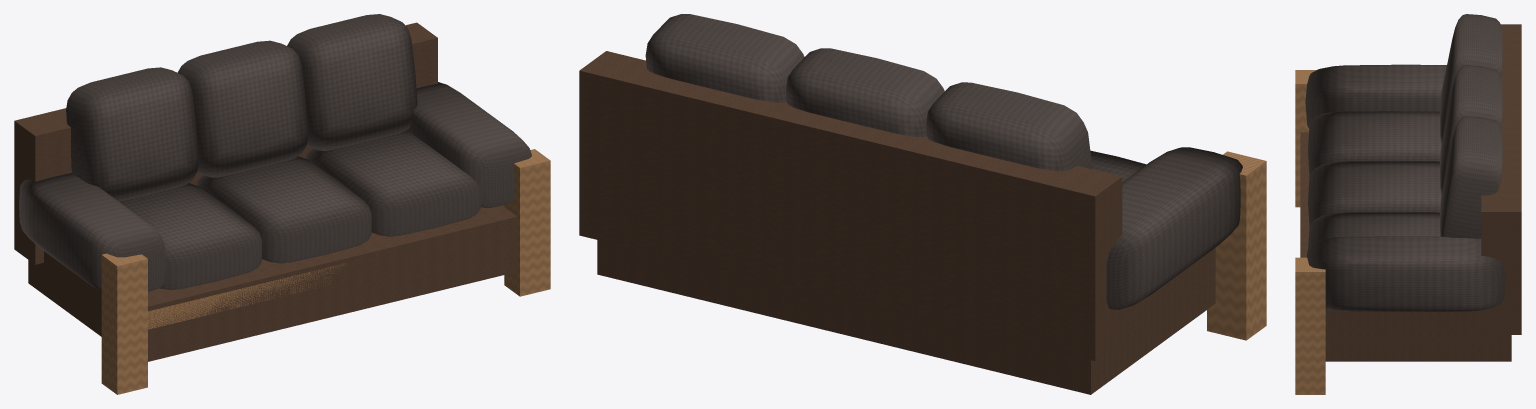
3 renders of one model, left to right at view 1: azimuth 30°, elevation 25°; view 2: azimuth 150°, elevation 25°; view 3: azimuth 270°, elevation 25°, orthographic. The views are drawn at different scales.
Parts seen in each view (by area): view 1: 4 base_frame, 11 left_back_cushion, 12 center_back_cushion, 13 right_back_cushion, 9 center_seat_cushion, 10 right_seat_cushion, 6 left_armrest, 8 left_seat_cushion, 7 right_armrest, 1 left_front_post, 5 back_frame, 2 right_front_post (+1 smaller); view 2: 5 back_frame, 4 base_frame, 6 left_armrest, 11 left_back_cushion, 12 center_back_cushion, 13 right_back_cushion, 1 left_front_post, 8 left_seat_cushion; view 3: 7 right_armrest, 4 base_frame, 5 back_frame, 9 center_seat_cushion, 8 left_seat_cushion, 6 left_armrest, 13 right_back_cushion, 2 right_front_post, 12 center_back_cushion, 11 left_back_cushion, 10 right_seat_cushion, 1 left_front_post.
Part boxes in pixels (box(x1,y1,x2,y2)): 4 base_frame: box(28, 205, 517, 361); 11 left_back_cushion: box(66, 67, 198, 201); 12 center_back_cushion: box(177, 40, 308, 177); 13 right_back_cushion: box(287, 14, 417, 150); 9 center_seat_cushion: box(196, 156, 371, 263); 10 right_seat_cushion: box(306, 130, 480, 236); 6 left_armrest: box(19, 173, 165, 291); 8 left_seat_cushion: box(120, 183, 261, 290); 7 right_armrest: box(406, 82, 531, 207); 1 left_front_post: box(101, 253, 147, 394); 5 back_frame: box(14, 22, 437, 264); 2 right_front_post: box(504, 149, 550, 296); 5 back_frame: box(579, 51, 1122, 361); 4 base_frame: box(597, 240, 1215, 394); 6 left_armrest: box(1106, 147, 1242, 309); 11 left_back_cushion: box(926, 82, 1092, 171); 12 center_back_cushion: box(786, 48, 944, 136); 13 right_back_cushion: box(645, 14, 804, 102); 1 left_front_post: box(1207, 151, 1266, 340); 8 left_seat_cushion: box(1090, 150, 1146, 181); 7 right_armrest: box(1306, 236, 1504, 312); 4 base_frame: box(1300, 132, 1511, 361); 5 back_frame: box(1481, 24, 1521, 334); 9 center_seat_cushion: box(1308, 161, 1441, 226); 8 left_seat_cushion: box(1308, 111, 1441, 175); 6 left_armrest: box(1305, 64, 1446, 128); 13 right_back_cushion: box(1440, 116, 1502, 238); 2 right_front_post: box(1295, 257, 1325, 394); 12 center_back_cushion: box(1440, 65, 1502, 194); 11 left_back_cushion: box(1440, 14, 1502, 143); 10 right_seat_cushion: box(1308, 212, 1440, 249); 1 left_front_post: box(1295, 70, 1316, 207).
Size of the model in its own units: 2.05 by 1 by 0.97.
3 materials, 3 textured.
